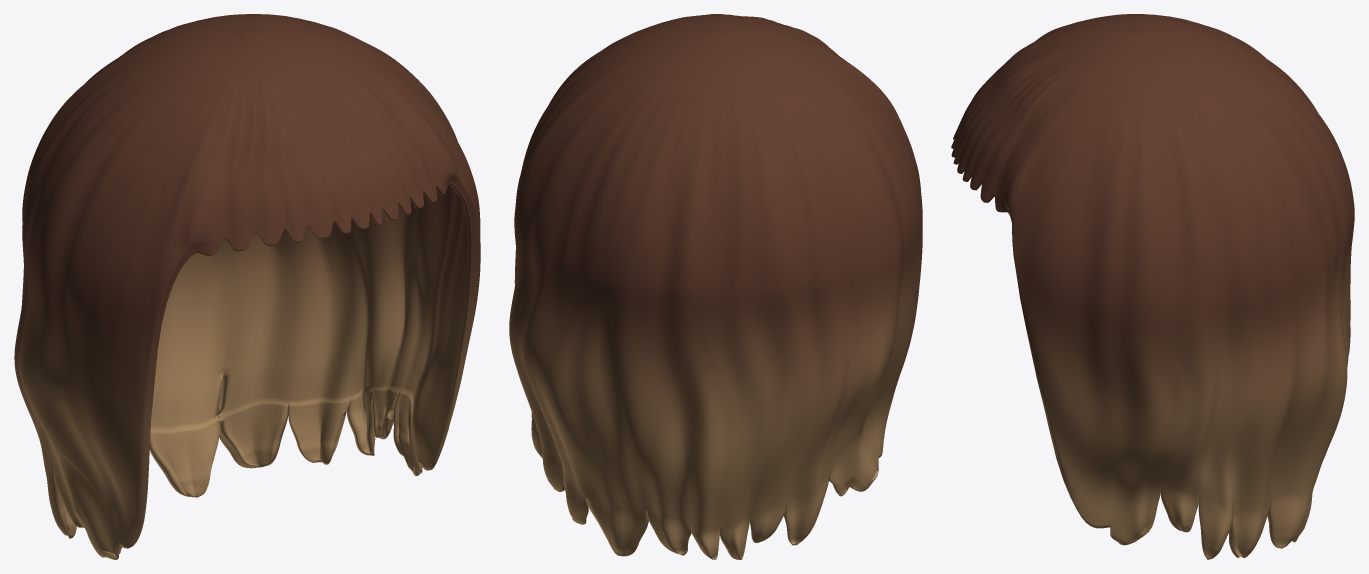
The model's file is long-none-ombre.glb.
3 views of the same model, side by side, from view 1: azimuth 30°, elevation 25°; view 2: azimuth 150°, elevation 25°; view 3: azimuth 270°, elevation 25° (orthographic). The views are drawn at different scales.
Parts seen in each view (by area): view 1: Hair / rounded long fringe; view 2: Hair / rounded long fringe; view 3: Hair / rounded long fringe.
Part boxes in pixels (x1,y1,x2,y2): Hair / rounded long fringe: [14, 14, 480, 559]; Hair / rounded long fringe: [509, 14, 922, 559]; Hair / rounded long fringe: [951, 14, 1354, 559].
Size of the model in its own units: 0.8536 by 1.06 by 0.7801.
